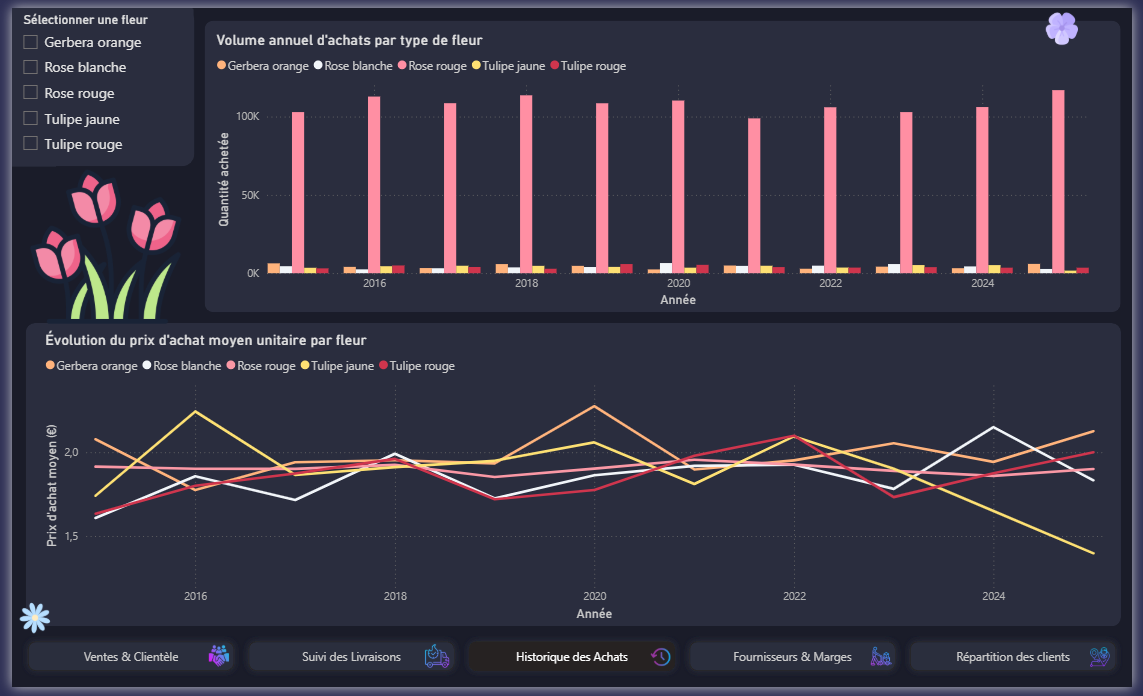

What the dashboard file says about the page in this screenshot:
{"tool":"powerbi","page":{"name":"Historique des Achats","canvas":[1280,777],"ordinal":2},"visuals":[{"type":"shape","box":[15,360,1251.7,346.7],"z":0},{"type":"shape","box":[0,155.2,50,25.7],"z":1000},{"type":"shape","box":[175,0.5,33.5,26.5],"z":2000},{"type":"shape","box":[0,0,208.6,181.1],"z":3000},{"type":"shape","box":[0,0,50,25.7],"z":4000},{"type":"slicer","fields":{"Values":["SAE_ACHATFLEUR.NOMFLEUR"]},"box":[0,0,219.6,181.1],"z":5000},{"type":"lineChart","title":"Évolution du prix d''achat moyen unitaire par fleur","fields":{"Category":["SAE_ACHATFLEUR.DATEACHAT.Variation.Hiérarchie de dates.Année","SAE_ACHATFLEUR.DATEACHAT.Variation.Hiérarchie de dates.Trimestre","SAE_ACHATFLEUR.DATEACHAT.Variation.Hiérarchie de dates.Mois"],"Y":["Avg(SAE_ACHATFLEUR.PRIXACHATUNITAIRE)"],"Series":["SAE_ACHATFLEUR.NOMFLEUR"]},"box":[32.9,369.1,1221.3,336.2],"z":6000},{"type":"shape","box":[219.6,13.7,1047,333.4],"z":7000},{"type":"clusteredColumnChart","title":"Volume annuel d''achats par type de fleur","fields":{"Category":["SAE_ACHATFLEUR.DATEACHAT.Variation.Hiérarchie de dates.Année","SAE_ACHATFLEUR.DATEACHAT.Variation.Hiérarchie de dates.Trimestre","SAE_ACHATFLEUR.DATEACHAT.Variation.Hiérarchie de dates.Mois","SAE_ACHATFLEUR.DATEACHAT.Variation.Hiérarchie de dates.Jour"],"Y":["Sum(SAE_ACHATFLEUR.NBRFLEURS)"],"Series":["SAE_ACHATFLEUR.NOMFLEUR"]},"box":[229.2,26.1,1007.2,321.1],"z":8000},{"type":"image","box":[0,180,214.3,185.7],"z":9000},{"type":"pageNavigator","box":[10,716,1260,50],"z":10000},{"type":"image","box":[212.5,723.3,46.7,35],"z":11000},{"type":"image","box":[456.7,715.8,58.3,50],"z":12000},{"type":"image","box":[722.5,725.8,36.7,32.5],"z":13000},{"type":"image","box":[974.2,725,38.3,33.3],"z":14000},{"type":"image","box":[1225,725.8,35.8,32.5],"z":15000},{"type":"image","box":[0,672.9,52.9,48.6],"z":16000},{"type":"image","box":[1174.3,0,51.4,47.1],"z":17000}]}

Visuals, with their boxes in screenshot pixels (x1, y1, x2, y2), scaled from the page's 1280x777 canvas onto the 1143x696 screenshot:
shape: bbox=[13, 322, 1131, 633]
shape: bbox=[0, 139, 45, 162]
shape: bbox=[156, 0, 186, 24]
shape: bbox=[0, 0, 186, 162]
shape: bbox=[0, 0, 45, 23]
slicer - SAE_ACHATFLEUR.NOMFLEUR: bbox=[0, 0, 196, 162]
"Évolution du prix d''achat moyen unitaire par fleur" lineChart: bbox=[29, 331, 1120, 632]
shape: bbox=[196, 12, 1131, 311]
"Volume annuel d''achats par type de fleur" clusteredColumnChart: bbox=[205, 23, 1104, 311]
image: bbox=[0, 161, 191, 328]
pageNavigator: bbox=[9, 641, 1134, 686]
image: bbox=[190, 648, 231, 679]
image: bbox=[408, 641, 460, 686]
image: bbox=[645, 650, 678, 679]
image: bbox=[870, 649, 904, 679]
image: bbox=[1094, 650, 1126, 679]
image: bbox=[0, 603, 47, 646]
image: bbox=[1049, 0, 1095, 42]
